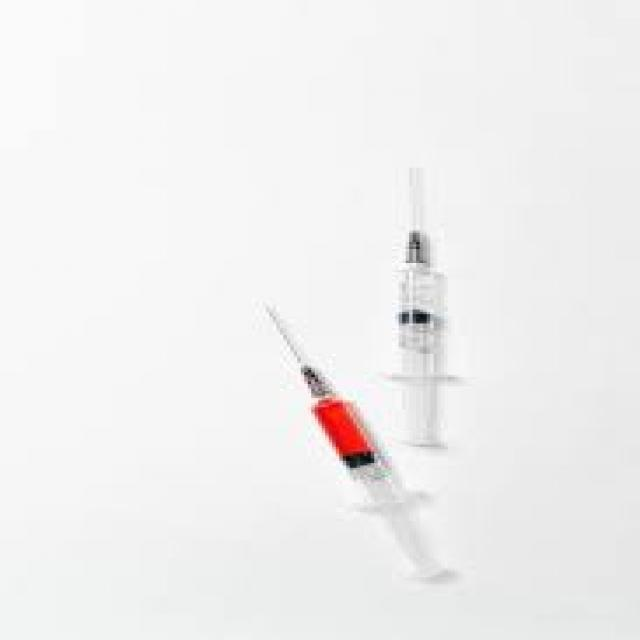syringe: (253, 118, 501, 600)
